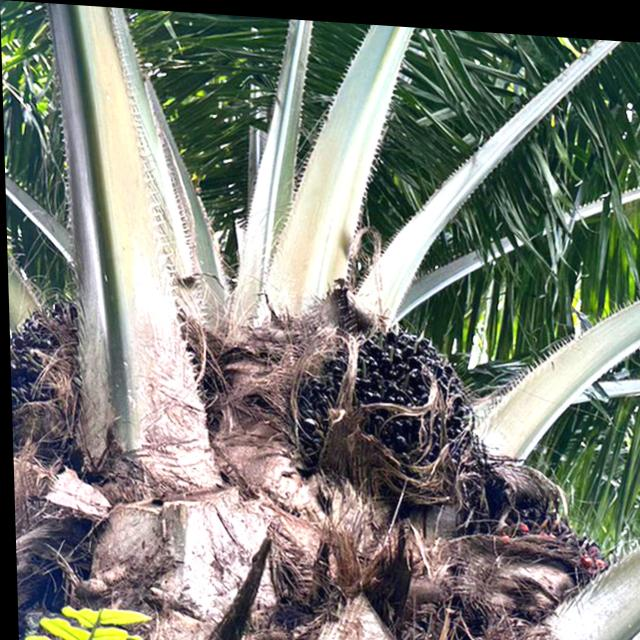unripe: (286, 307, 497, 513)
